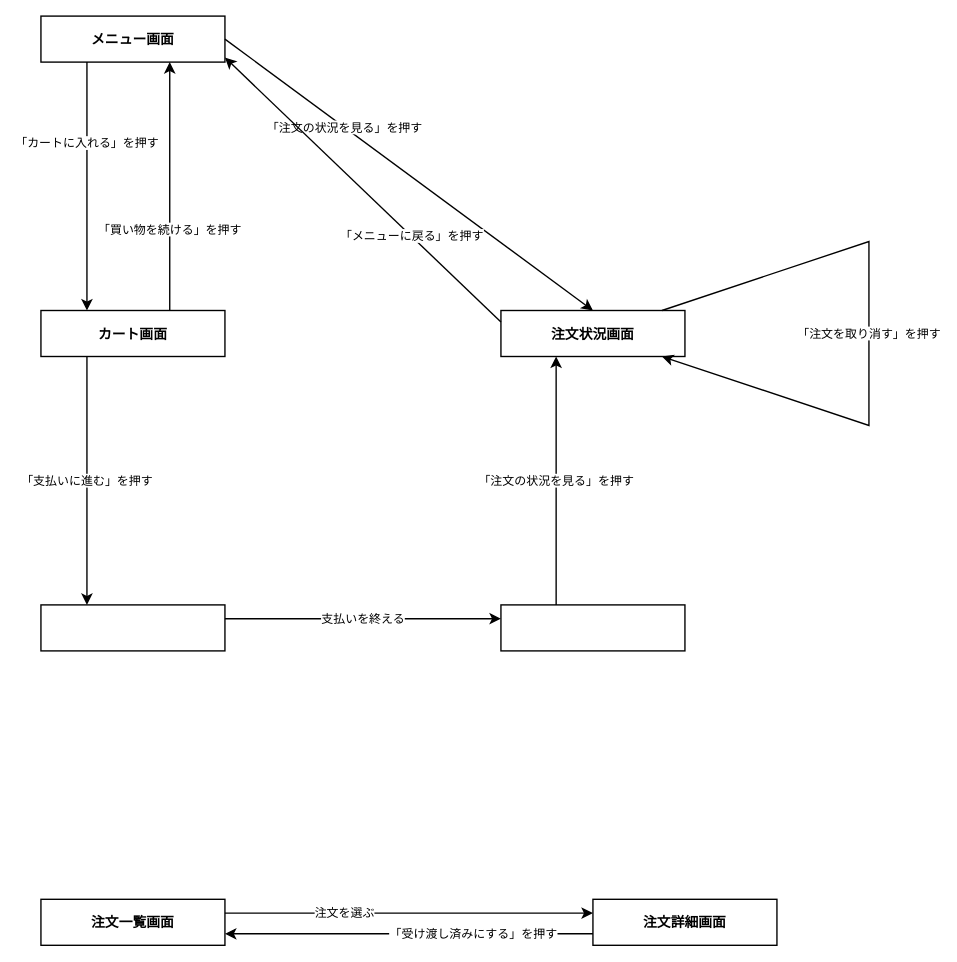
Some shapes in this 957 by 962 pixel diagram are drawn without their labels. Here are the shapes that lost their labels. From the top down, the centre of each, then its label:
At [132,627]: "支払いの画面".
At [592,627]: "注文完了画面".
